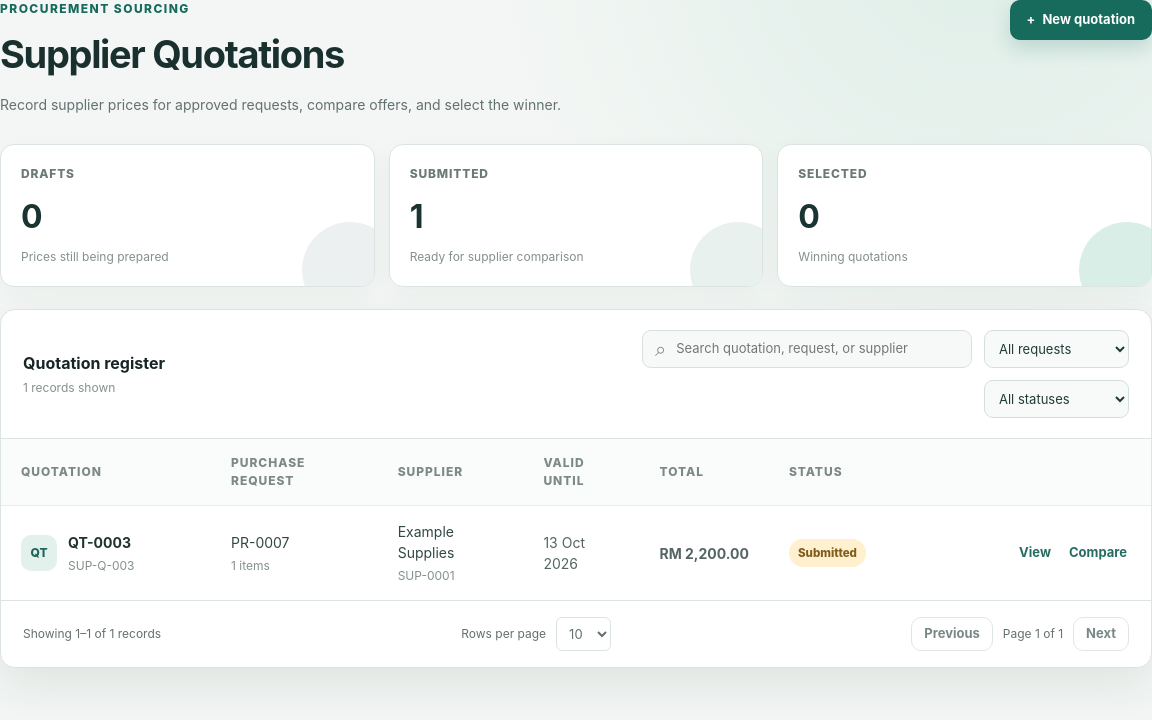
Test: QuotationListView › opens comparison and selects the winning quotation
What coordinates should you click on to do the following:
click the button "Compare"
I would click on:
 (1098, 553)
Its box is [1065,539,1131,567].
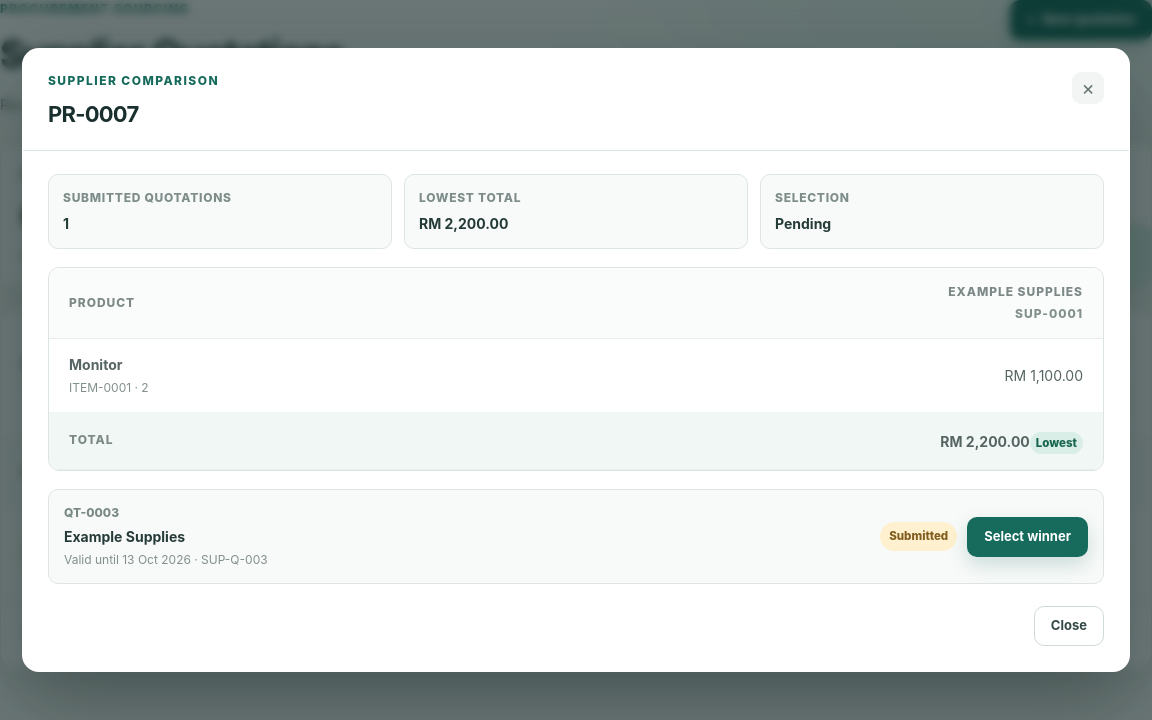
Result: the dialog shows "Lowest" at [1036,436,1077,450]
What coordinates should you click on to do the following:
click the button "Select winner"
I would click on:
 (1028, 536)
Its box is [967,516,1088,556].
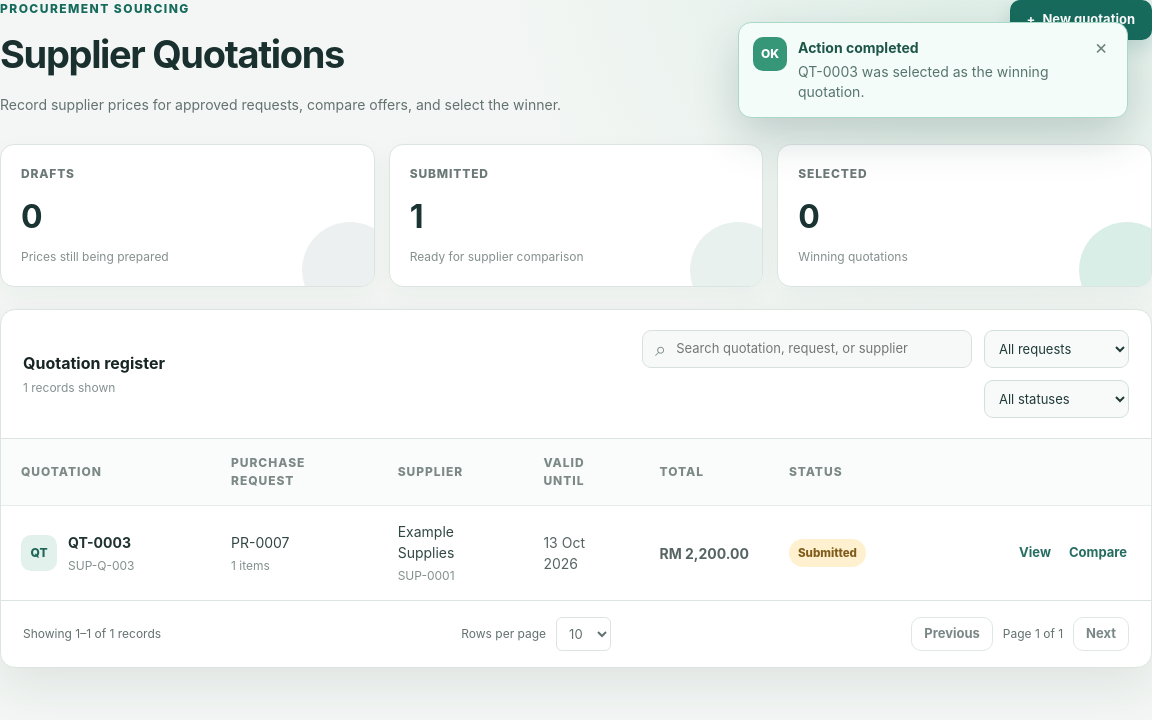
Result: the message with class "success-toast" shows "winning quotation" at [798,63,1048,100]
